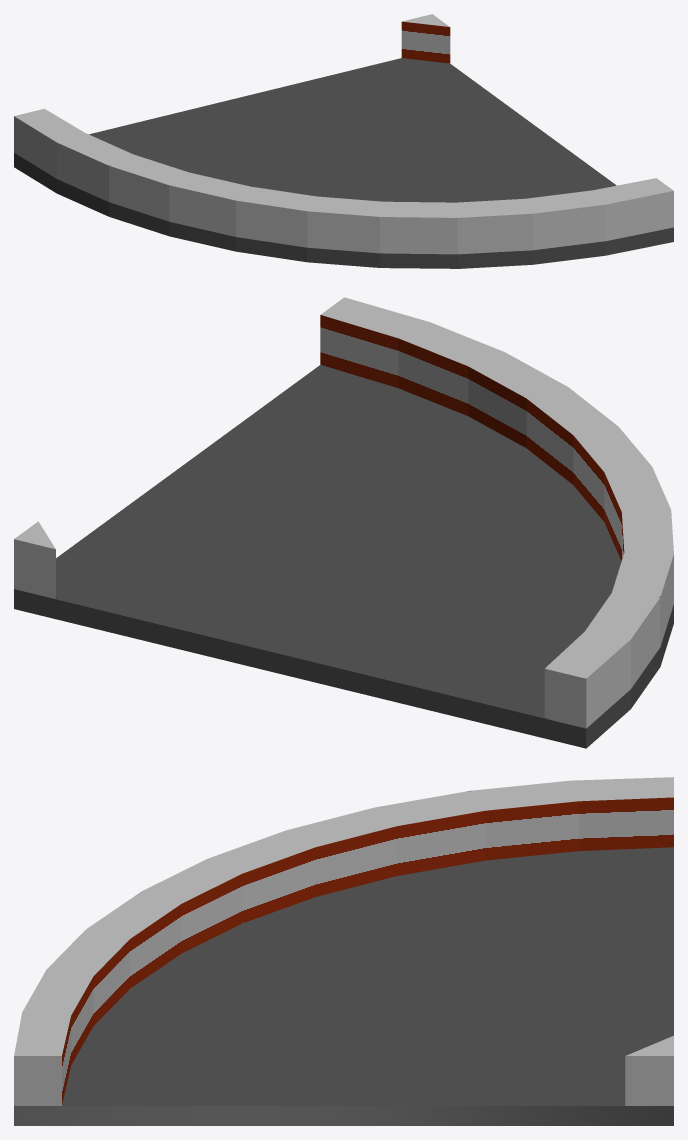
The model's file is turn.fbx.
3 renders of one model, top to bottom at view 1: azimuth 30°, elevation 25°; view 2: azimuth 150°, elevation 25°; view 3: azimuth 270°, elevation 25°, orthographic. The views are drawn at different scales.
Visible parts, largest first — view 1: Cube.001; view 2: Cube.001; view 3: Cube.001.
Part boxes in pixels (box(x1,y1,x2,y2)): Cube.001: box(14, 14, 673, 268); Cube.001: box(14, 297, 673, 748); Cube.001: box(14, 777, 673, 1125).
Size of the model in its own units: 3000 by 350 by 3000.
